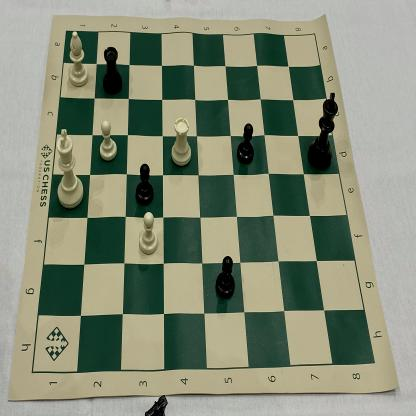black-king: (304, 88, 340, 173)
black-pawn: (213, 248, 238, 302), (133, 161, 156, 207), (236, 119, 256, 168)
black-rook: (100, 44, 124, 96)
white-bishop: (66, 28, 89, 90)
white-king: (52, 126, 86, 212)
white-pawn: (136, 210, 162, 256), (96, 116, 120, 163)
white-rook: (169, 115, 194, 170)
